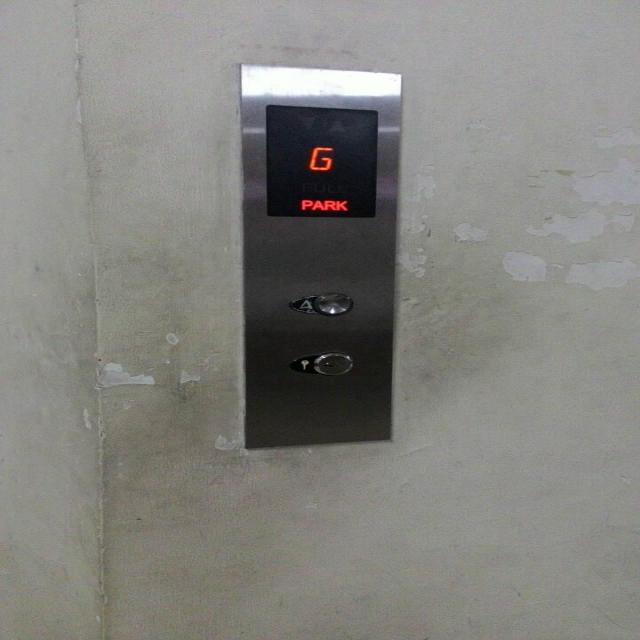key: (286, 350, 356, 376)
led: (264, 106, 378, 220)
up: (284, 291, 354, 315)
